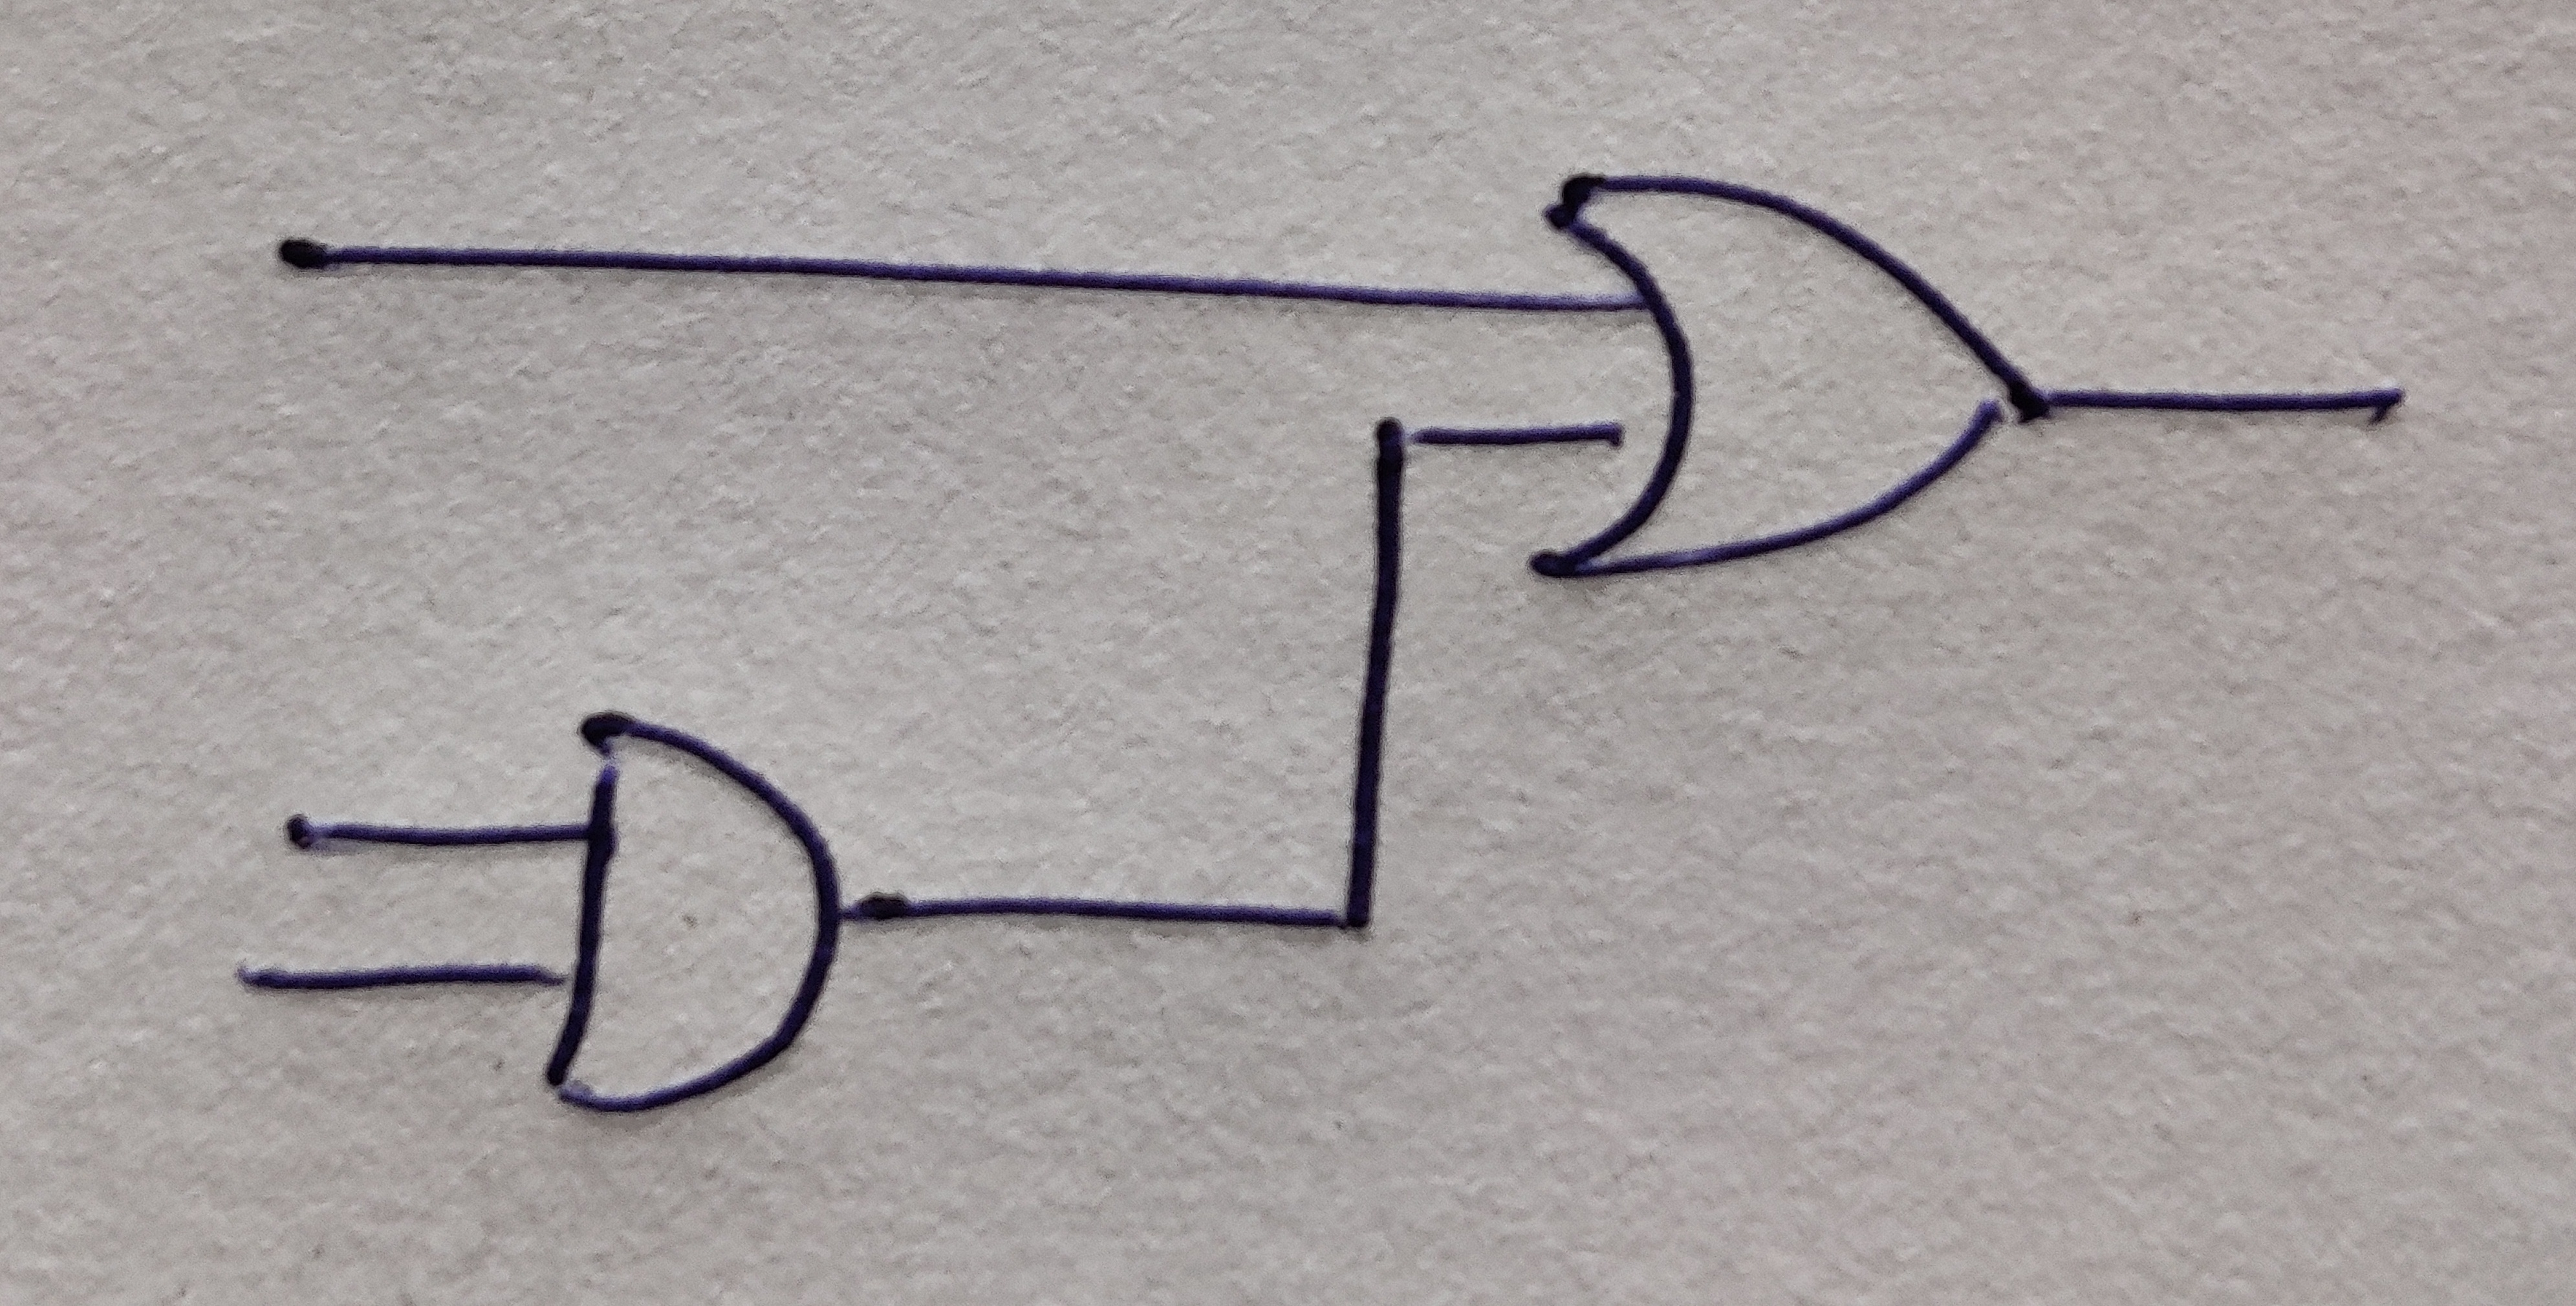and: (547, 710, 841, 1113)
or: (1533, 175, 2053, 583)
